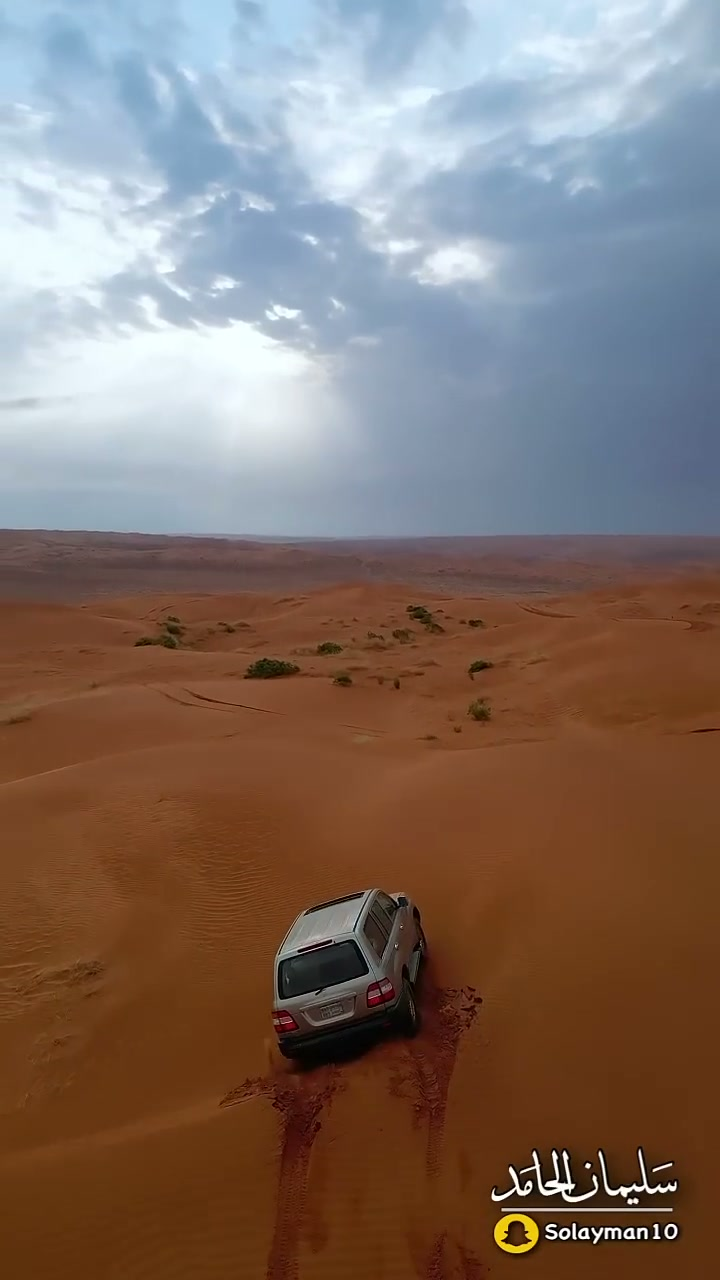vehicle_track: (220, 1064, 339, 1279), (391, 986, 481, 1177)
